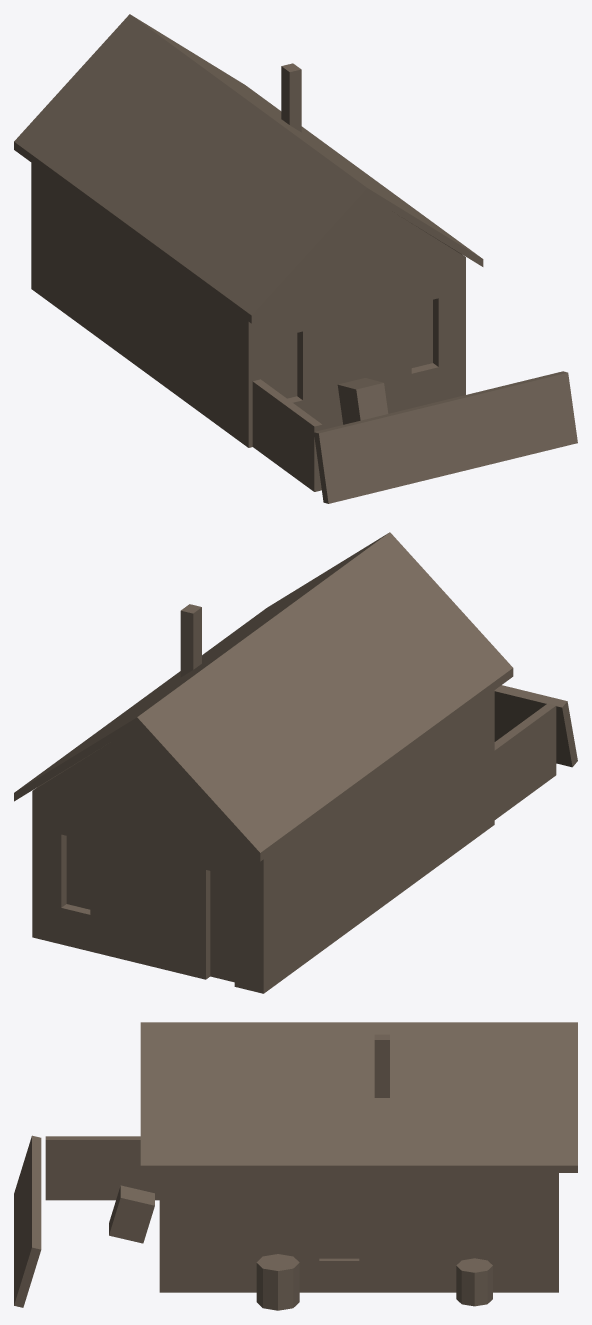
3 renders of one model, top to bottom at view 1: azimuth 30°, elevation 25°; view 2: azimuth 150°, elevation 25°; view 3: azimuth 270°, elevation 25°, orthographic. The views are drawn at different scales.
Parts seen in each view (by area): view 1: polySurface10; view 2: polySurface10; view 3: polySurface10.
Boxes of the visible parts, x1,y1,x2,y2 form: polySurface10: (14,14,577,503); polySurface10: (14,532,577,993); polySurface10: (14,1022,577,1310).
Bounding box in the file's own units: 9.8 × 8.97 × 19.76.
